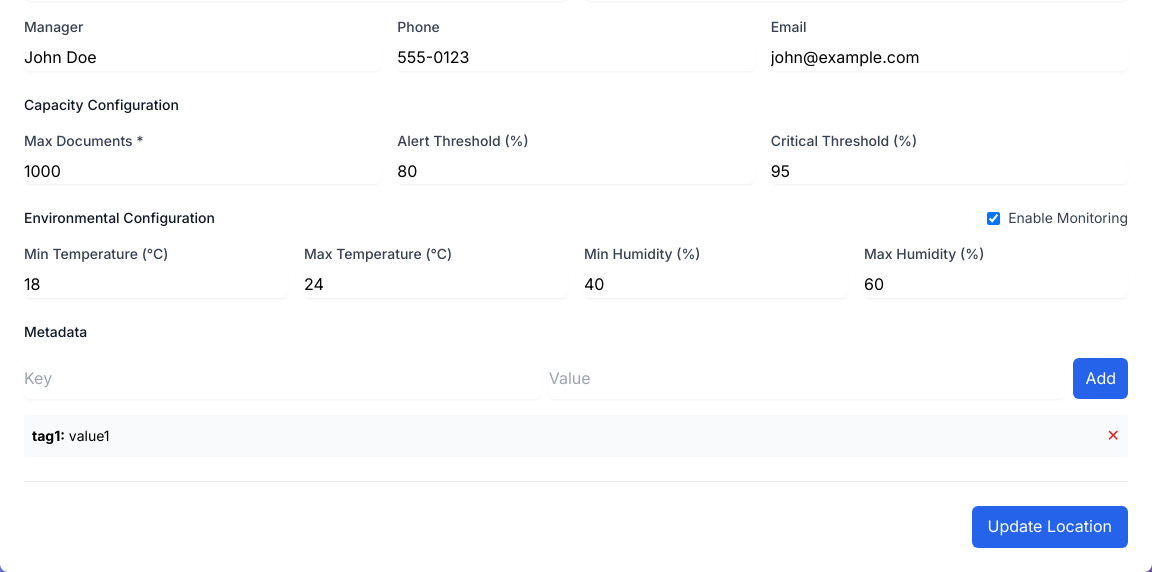
LocationForm Component › Form Interactions › removes metadata entries
This screenshot has width=1152, height=572.
(page scrolled)
Click the button "✕".
click(1113, 436)  # box [1107,423,1120,449]
(page scrolled)
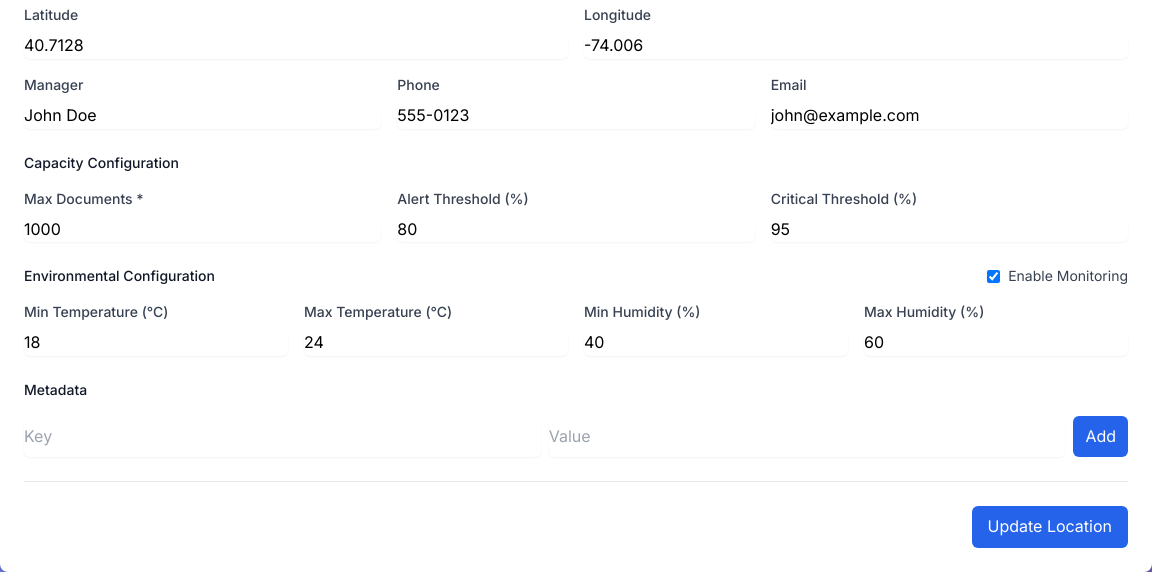
Check: the text "tag1: value1" is gone
